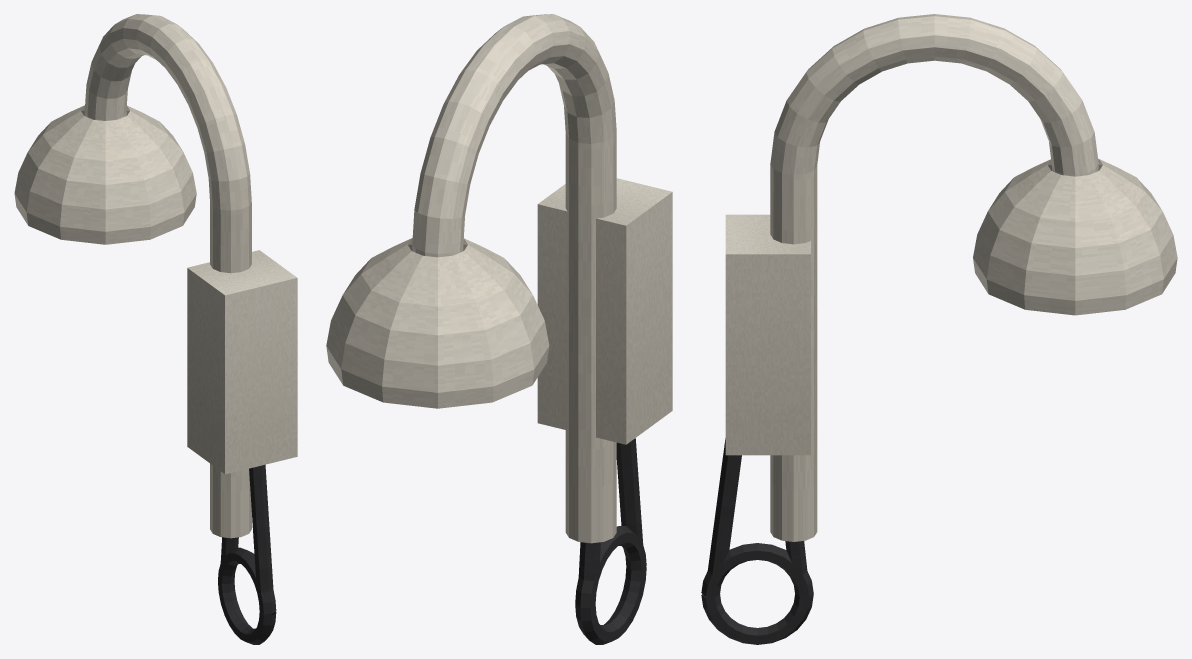
The model's file is miovision_360_inv.obj.
The picture shows the model from 3 angles, left to right: view 1: azimuth 30°, elevation 25°; view 2: azimuth 150°, elevation 25°; view 3: azimuth 270°, elevation 25°; orthographic projection. The views are drawn at different scales.
Parts seen in each view (by area): view 1: miovision360; view 2: miovision360; view 3: miovision360.
Part boxes in pixels (x1,y1,x2,y2): miovision360: (14,14,297,644); miovision360: (326,14,672,644); miovision360: (701,14,1177,644).
Bounding box in the file's own units: 0.48 × 1.63 × 1.12.
